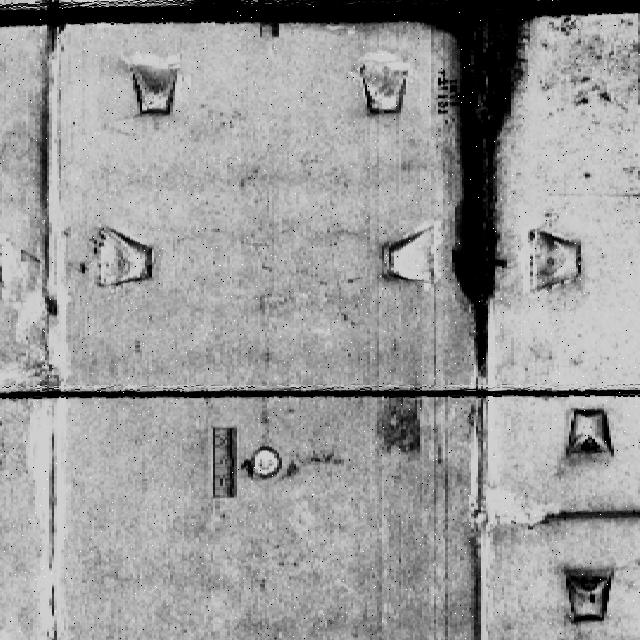leakage: (436, 0, 544, 374)
